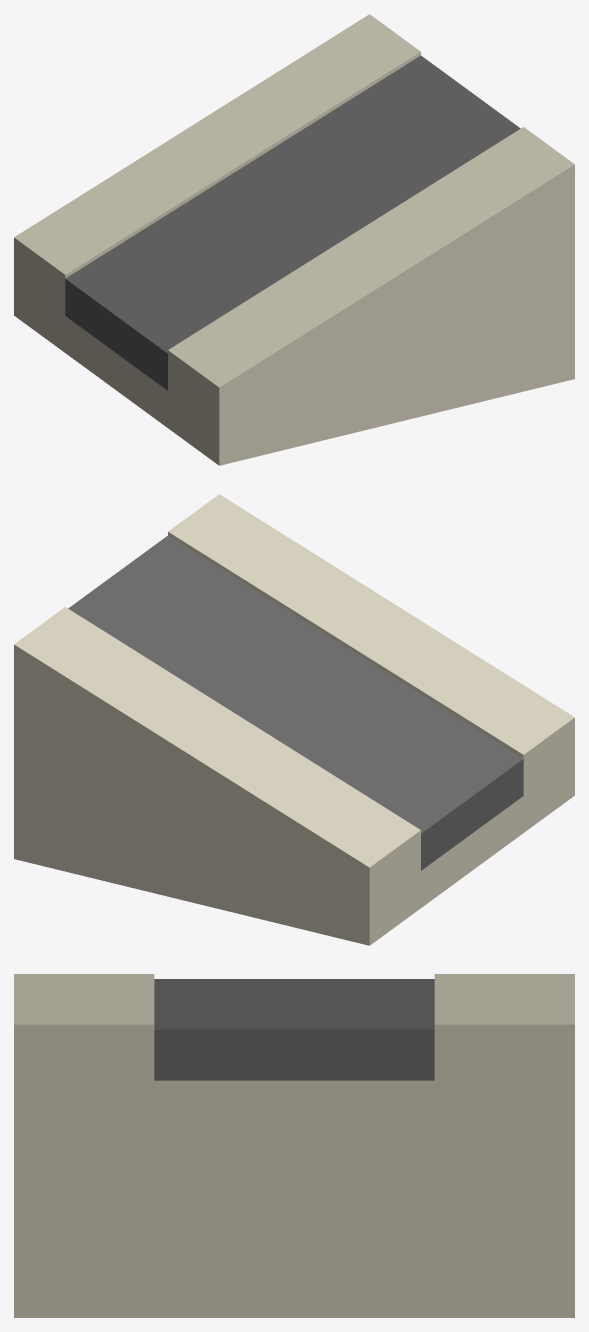
File: tile033.fbx
3 renders of one model, top to bottom at view 1: azimuth 30°, elevation 25°; view 2: azimuth 150°, elevation 25°; view 3: azimuth 270°, elevation 25°, orthographic. The views are drawn at different scales.
Parts seen in each view (by area): view 1: tile033; view 2: tile033; view 3: tile033.
Part boxes in pixels (bbox=[...]): tile033: bbox=[14, 14, 574, 465]; tile033: bbox=[14, 494, 574, 945]; tile033: bbox=[14, 974, 574, 1317].
Size of the model in its own units: 10 by 5.77 by 10.
